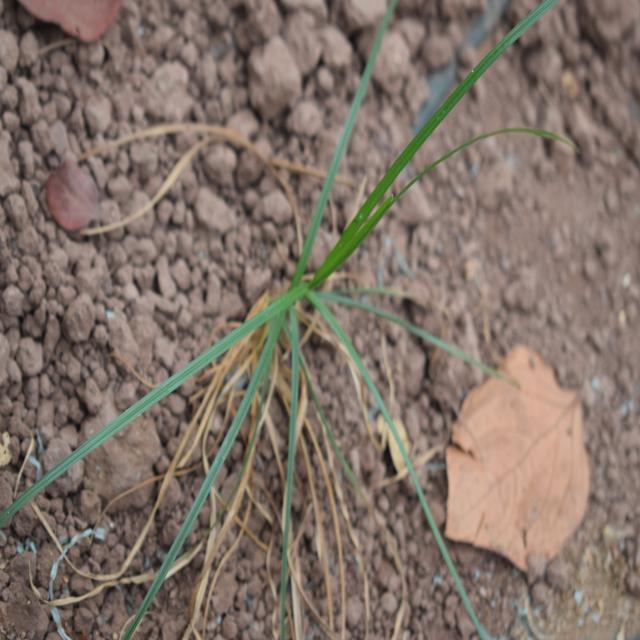sedge: (96, 27, 568, 606)
